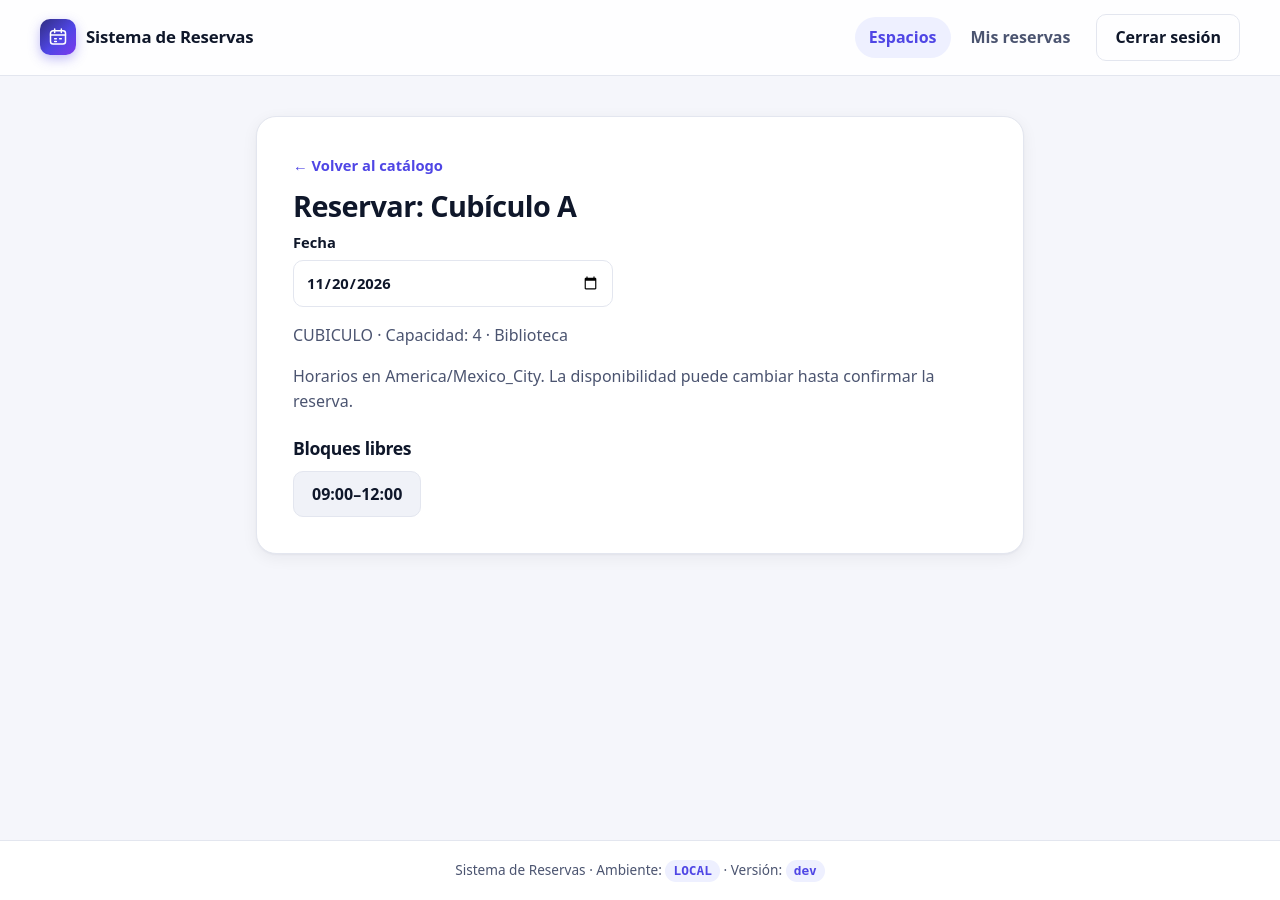
crea con horas ISO, conserva la confirmación y navega a mis reservas
This screenshot has width=1280, height=900.
Click the button "09:00–12:00": (357, 494) 293,471 -> 421,518
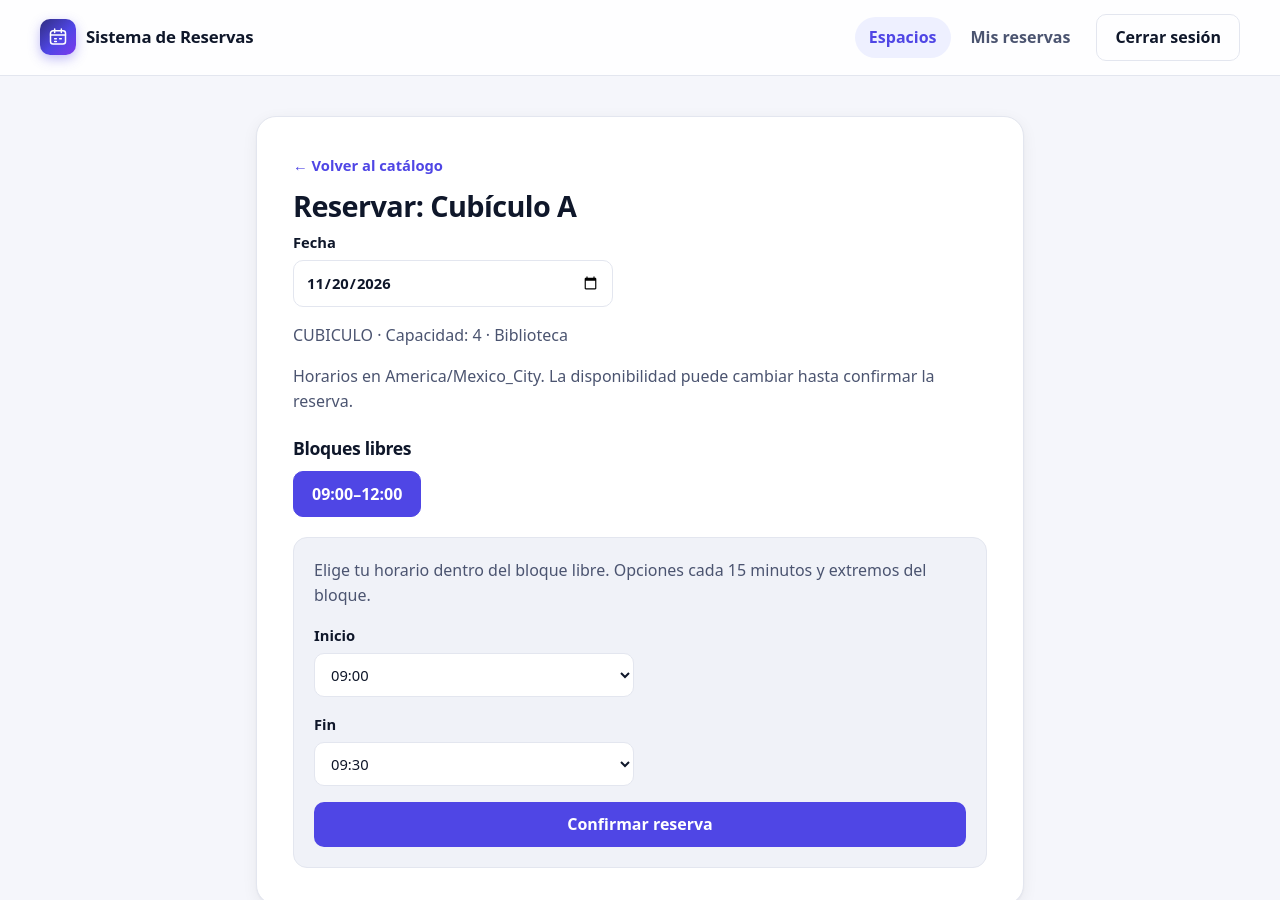
Click the button "Confirmar reserva": (640, 825) 314,802 -> 966,847
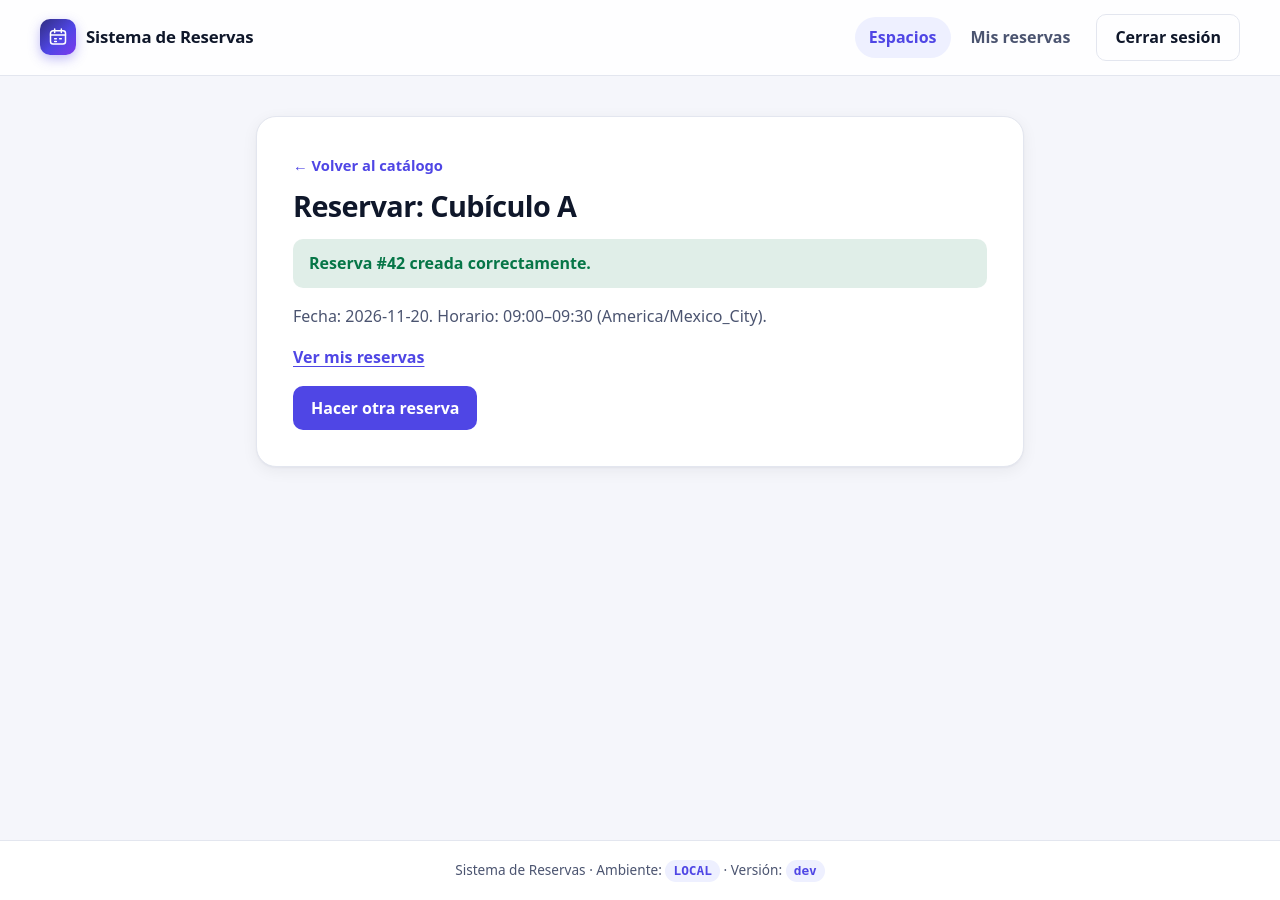
Check: the message reads "Reserva #42 creada correctamente.", box 293,239 -> 987,288
Check: the button "Confirmar reserva" is gone
Click the link "Ver mis reservas": (359, 357) 293,346 -> 424,368
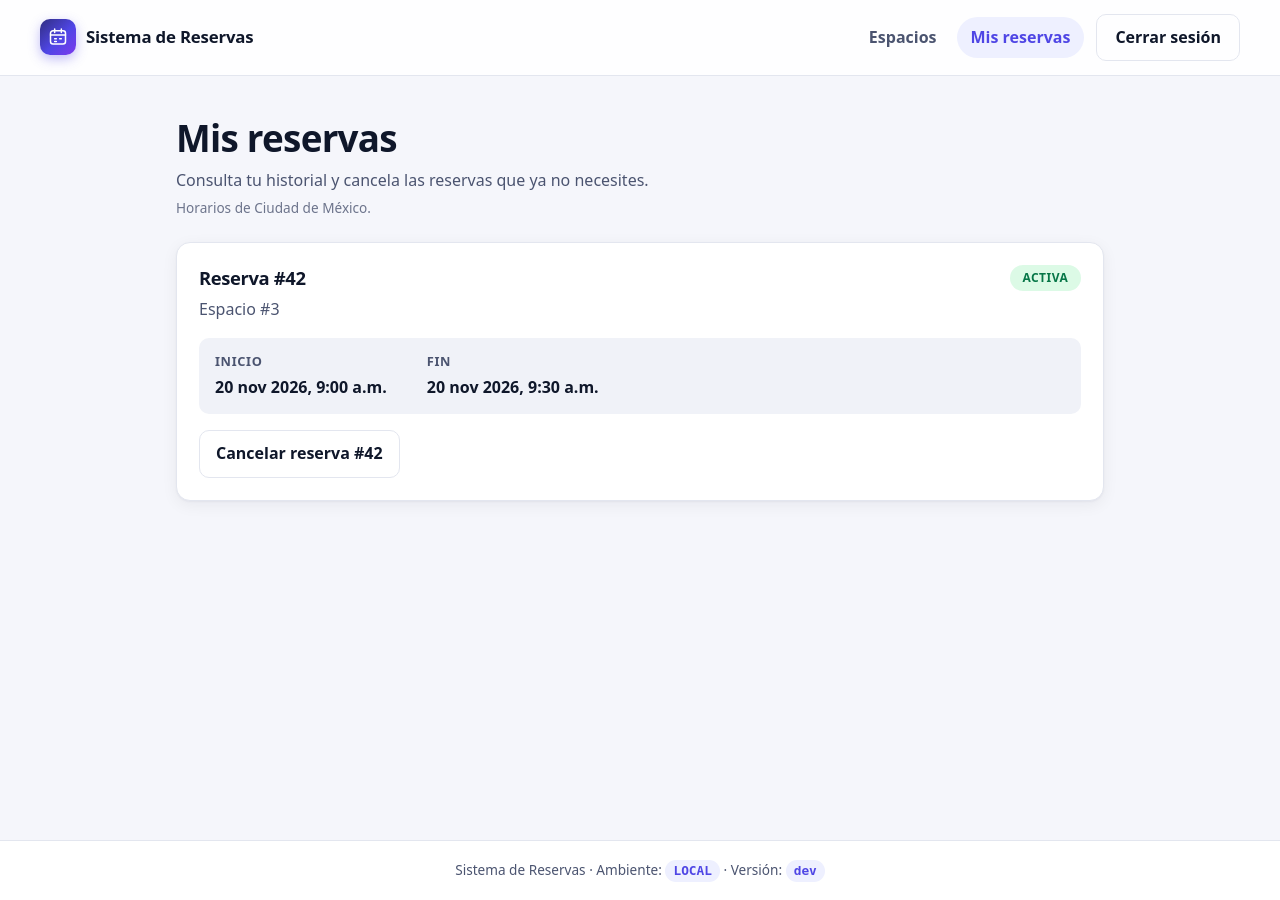
Check: the heading "Reserva #42" is shown, box 199,267 -> 306,289
